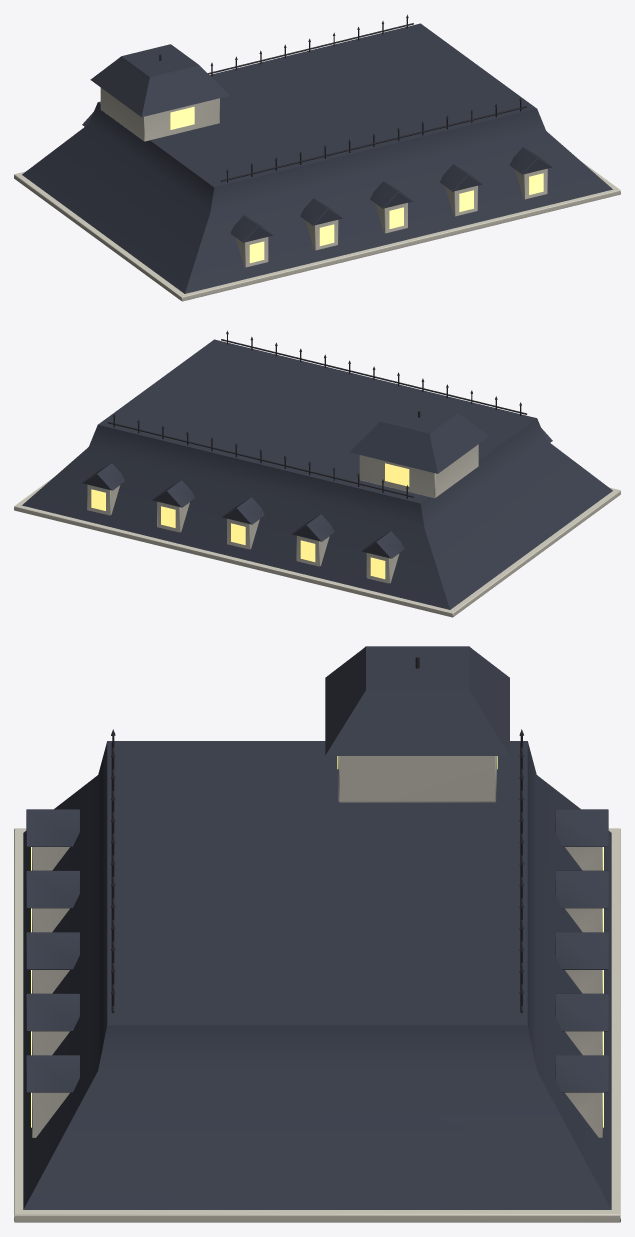
Rendered from roof_mansard.glb.
3 renders of one model, top to bottom at view 1: azimuth 30°, elevation 25°; view 2: azimuth 150°, elevation 25°; view 3: azimuth 270°, elevation 25°, orthographic. The views are drawn at different scales.
Visible parts, largest first — view 1: roof_mansard, tower_cap, dormers, cresting; view 2: roof_mansard, tower_cap, dormers, cresting; view 3: roof_mansard, dormers, tower_cap, cresting.
Part boxes in pixels (bbox=[...]): roof_mansard: bbox=[14, 23, 620, 301]; tower_cap: bbox=[90, 44, 229, 141]; dormers: bbox=[82, 112, 552, 267]; cresting: bbox=[207, 14, 526, 182]; roof_mansard: bbox=[14, 339, 620, 617]; tower_cap: bbox=[349, 401, 488, 498]; dormers: bbox=[82, 428, 552, 583]; cresting: bbox=[107, 330, 526, 498]; roof_mansard: bbox=[14, 741, 620, 1222]; dormers: bbox=[26, 809, 608, 1137]; tower_cap: bbox=[325, 646, 509, 802]; cresting: bbox=[111, 729, 524, 1013].
Bounding box in the file's own units: 11.88 × 3.7 × 7.88.
